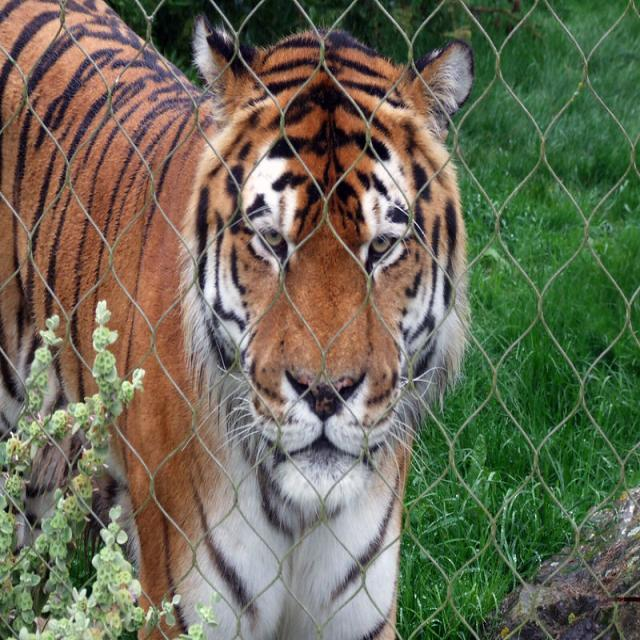Tiger: (12, 0, 485, 606)
